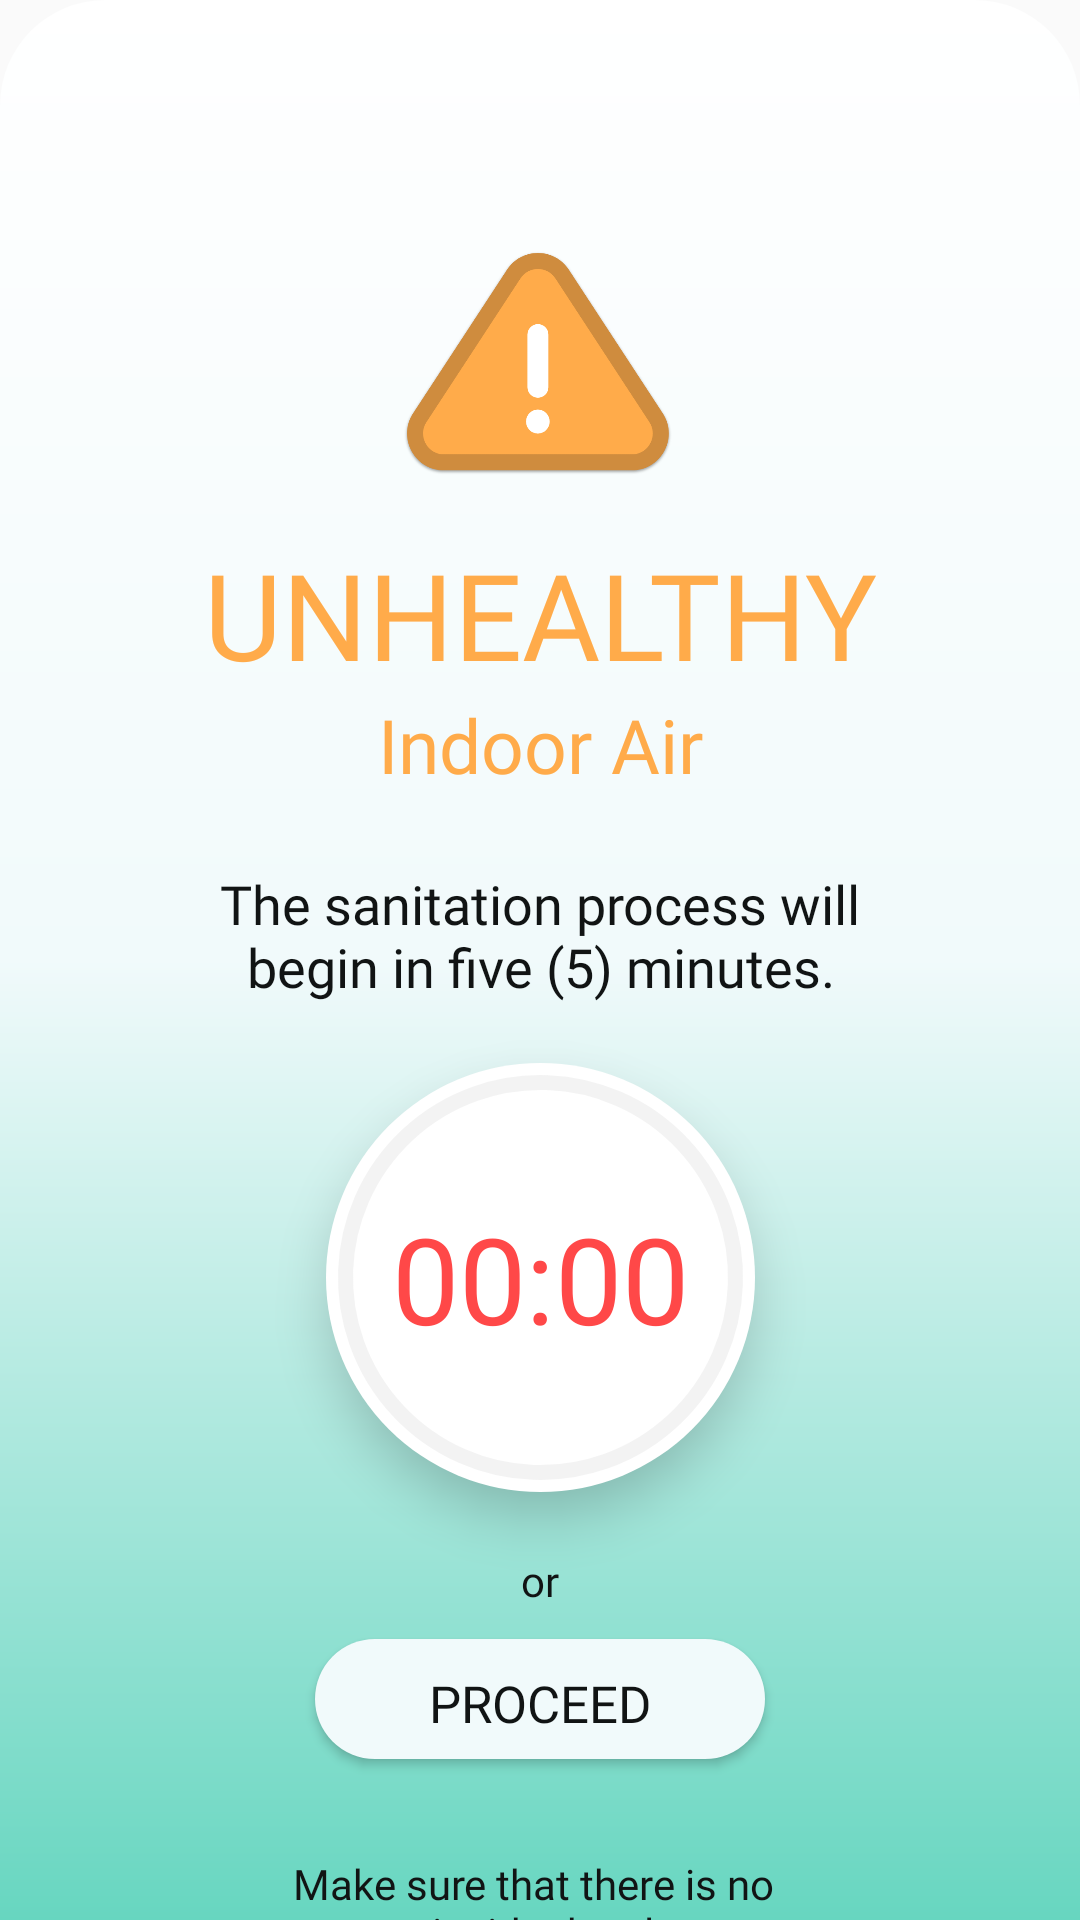

Icon click points for this 1080x1920 phone screenshot, format point (x, y):
warnig: point (538, 363)
